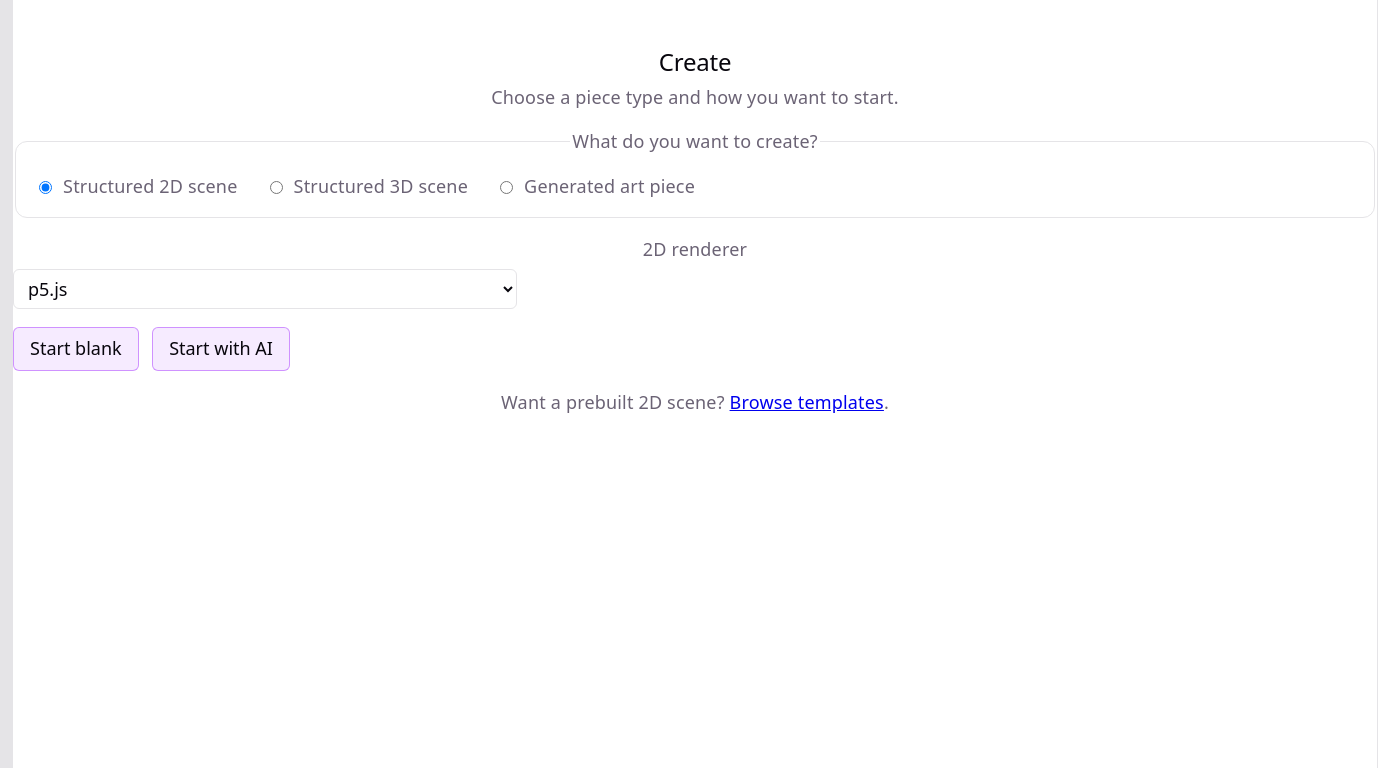
Test case: CreateChooser (issue #1276) › shows an accessible error and re-enables the start actions on creation failure
Click the button "Start blank". click: (76, 349)
box: [13, 327, 139, 371]
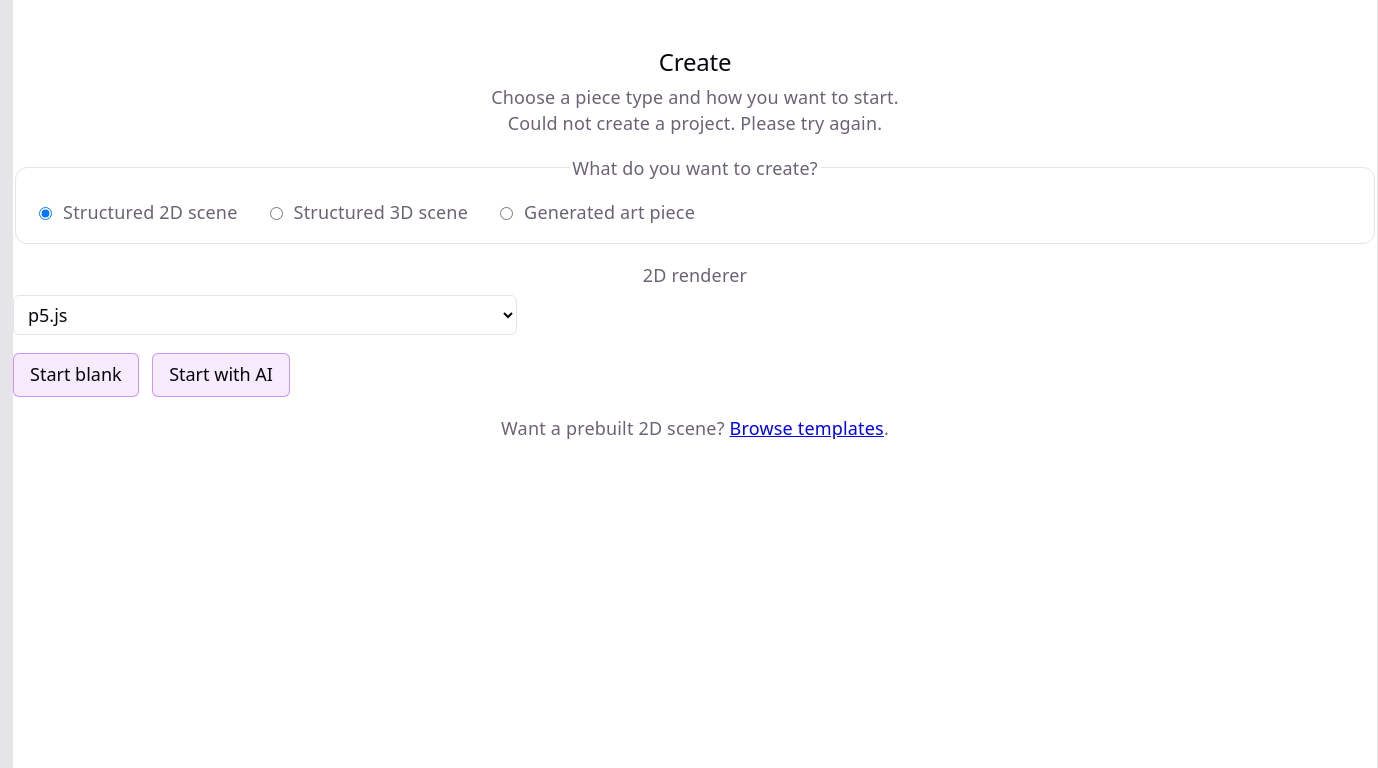
Expected: the button "Start blank" is enabled, [13, 353, 139, 397]
Expected: the message shows "Could not create", [508, 111, 882, 135]
